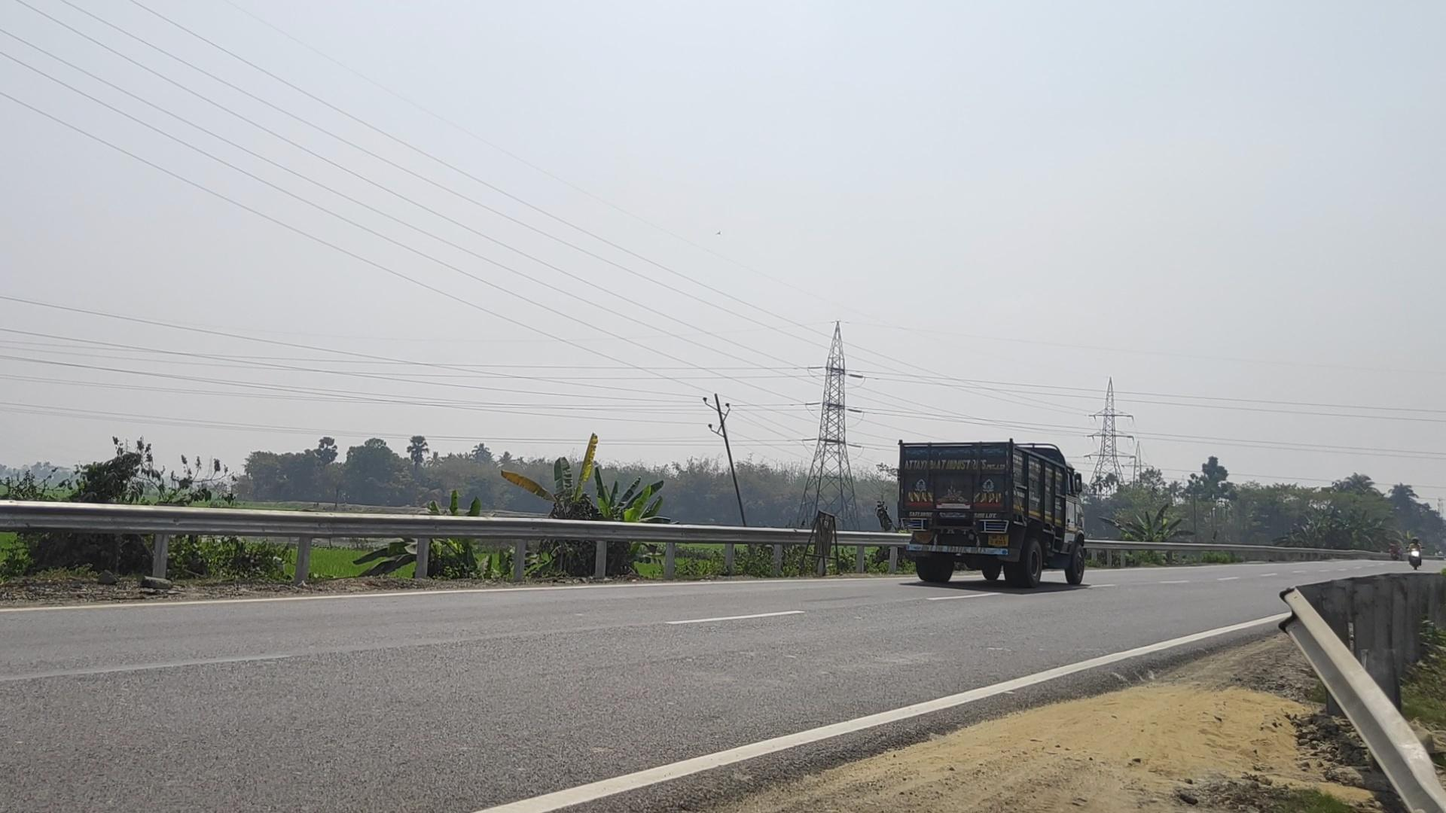bike: (1405, 537, 1425, 571)
truck: (897, 437, 1088, 588)
